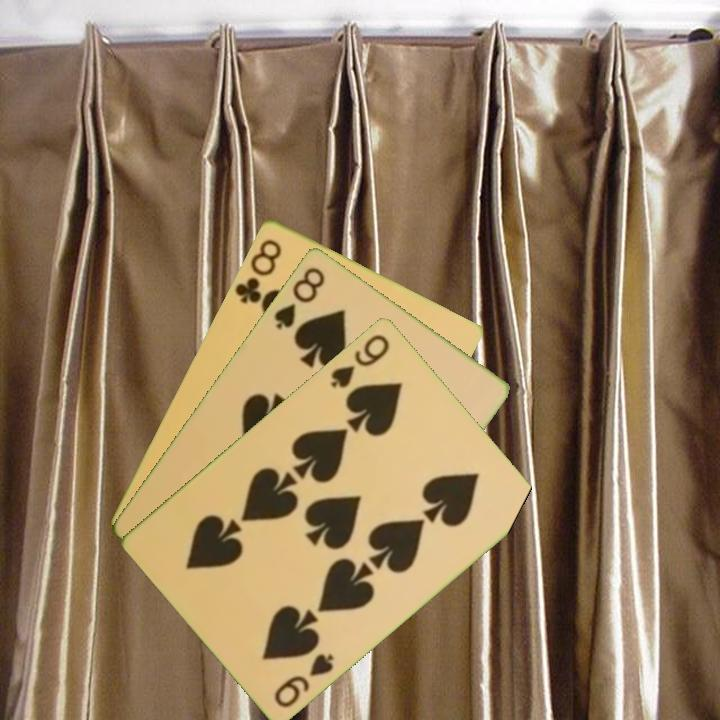8c: (231, 235, 285, 308)
8s: (270, 263, 328, 332)
9s: (326, 330, 393, 391), (270, 649, 337, 710)
